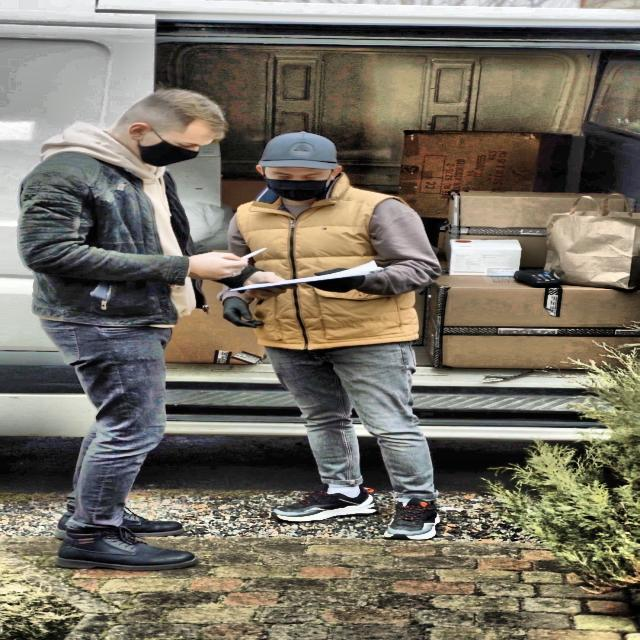gloved: (206, 291, 286, 336), (180, 244, 270, 278), (304, 266, 381, 298), (242, 268, 298, 302)
